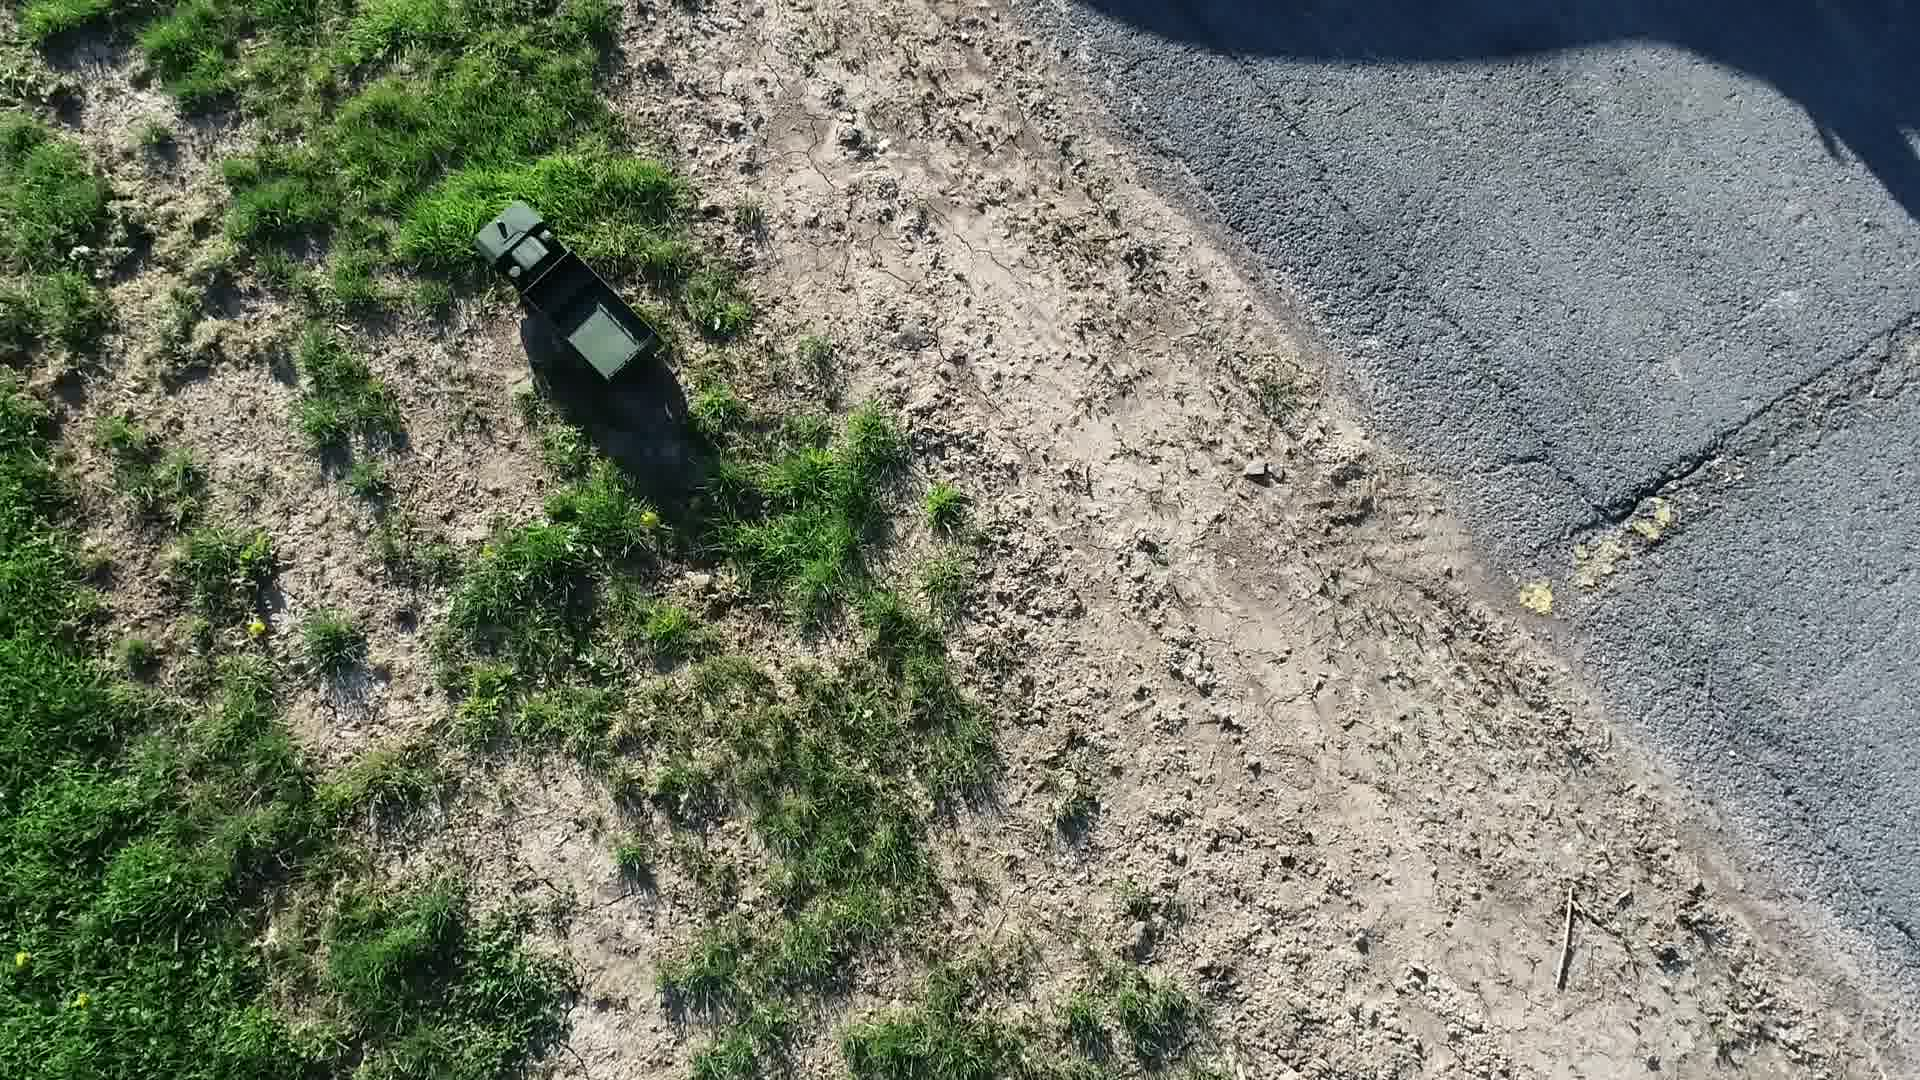transporter9: (454, 193, 676, 414)
